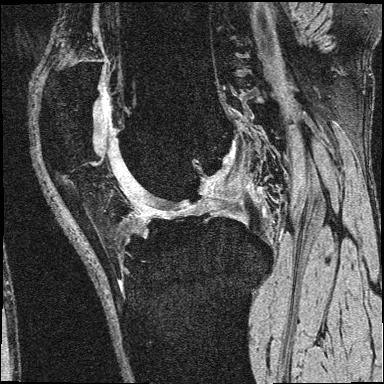SagKneeJointArea: (38, 61, 276, 304)
